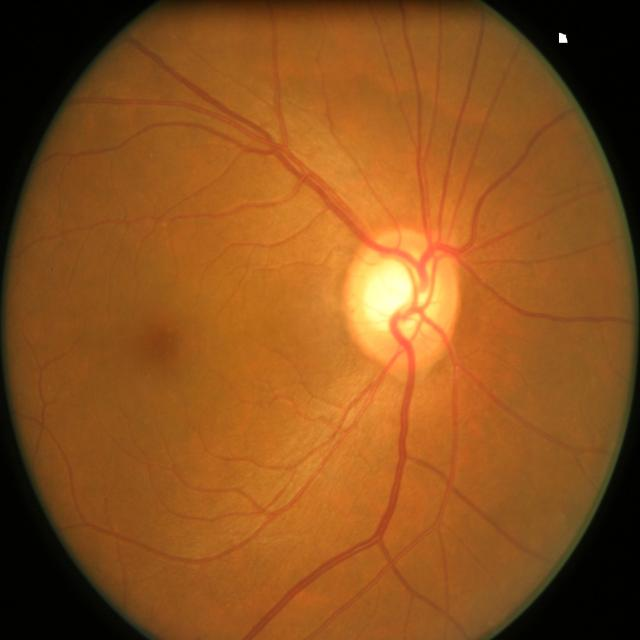OC: (364, 260, 432, 336)
OD: (346, 227, 464, 366)
